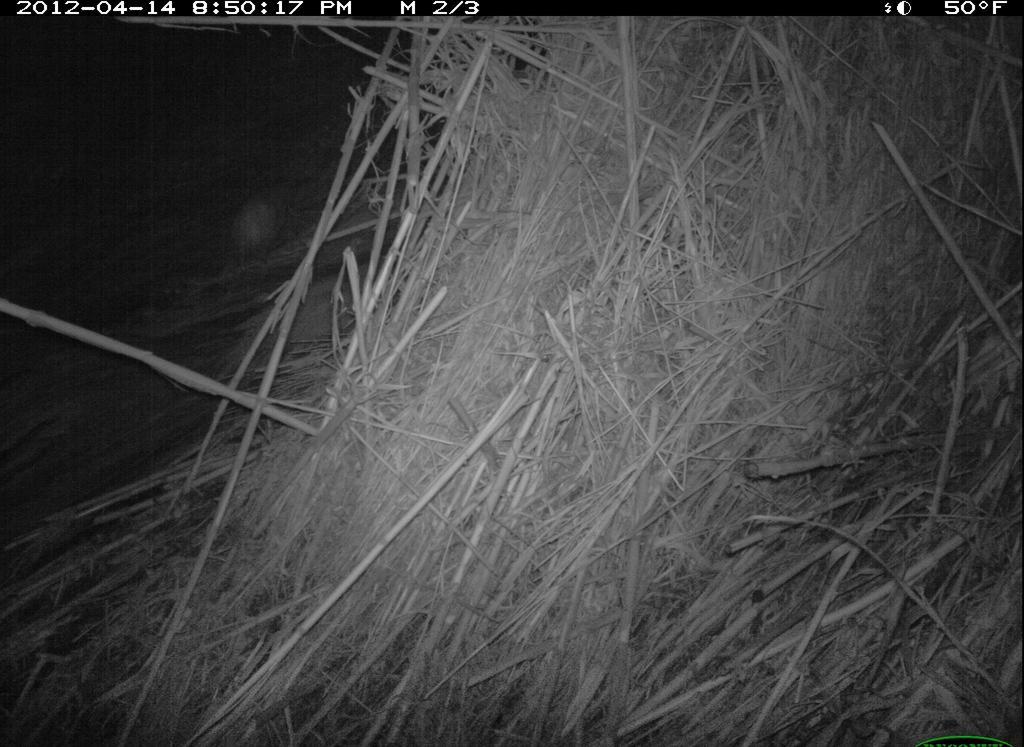opossum: (216, 173, 309, 317)
